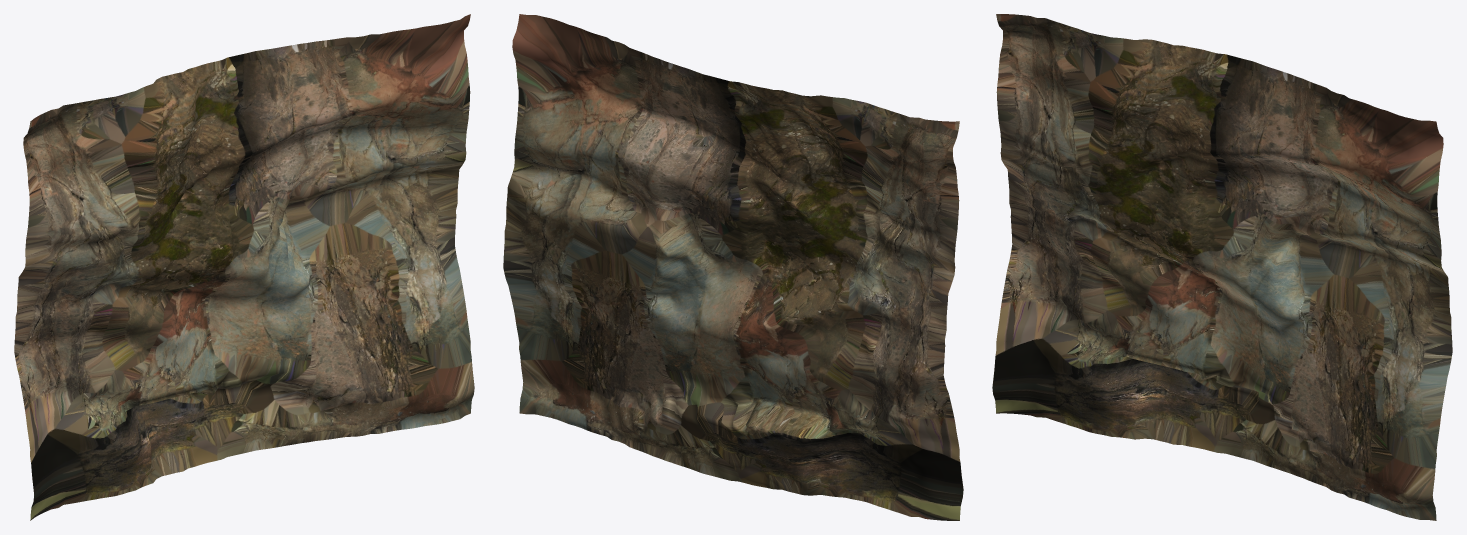
File: rock-face-01.glb
3 renders of one model, left to right at view 1: azimuth 30°, elevation 25°; view 2: azimuth 150°, elevation 25°; view 3: azimuth 330°, elevation 25°, orthographic.
Visible parts, largest first — view 1: rock_face_01; view 2: rock_face_01; view 3: rock_face_01.
Part boxes in pixels (x1,y1,x2,y2): rock_face_01: [14, 14, 474, 520]; rock_face_01: [503, 14, 963, 520]; rock_face_01: [992, 14, 1452, 520].
Bounding box in the file's own units: 3 × 2.6 × 0.4494.
1 material, 1 textured.
